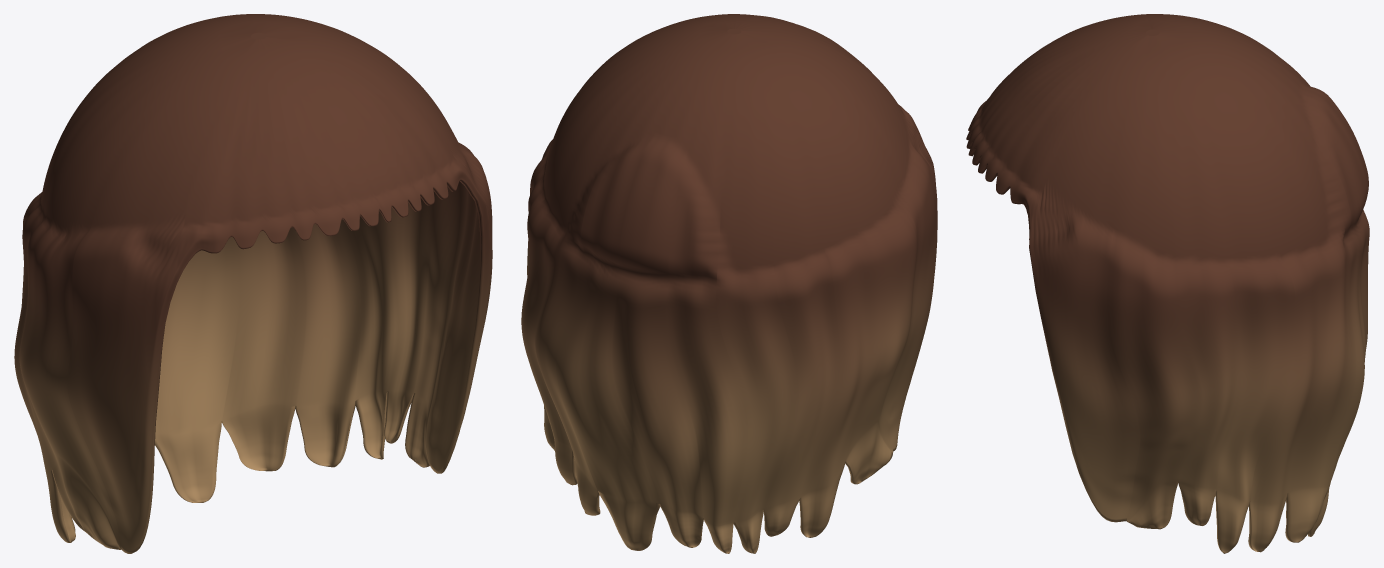
Rendered from long-cap-ombre.glb.
3 renders of one model, left to right at view 1: azimuth 30°, elevation 25°; view 2: azimuth 150°, elevation 25°; view 3: azimuth 270°, elevation 25°, orthographic. The views are drawn at different scales.
Parts seen in each view (by area): view 1: Hair / rounded long fringe; view 2: Hair / rounded long fringe; view 3: Hair / rounded long fringe.
Part boxes in pixels (x1,y1,x2,y2): Hair / rounded long fringe: [14, 14, 492, 553]; Hair / rounded long fringe: [521, 14, 937, 553]; Hair / rounded long fringe: [966, 14, 1369, 553].
Size of the model in its own units: 0.8534 by 1.04 by 0.7751.
